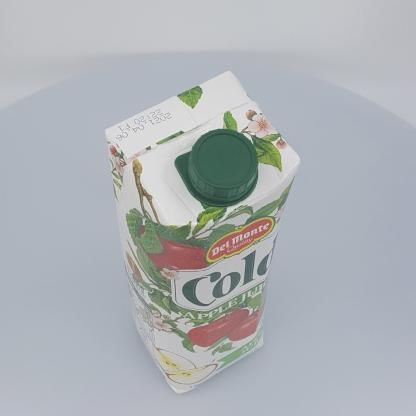------------: (105, 71, 300, 394)
